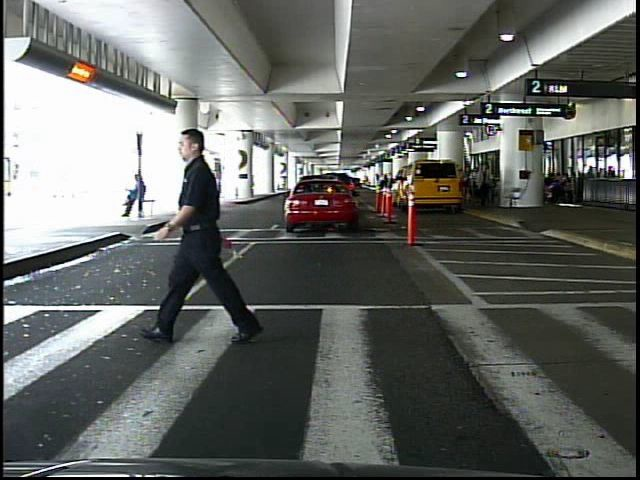person: (145, 123, 280, 348), (477, 161, 495, 209)
